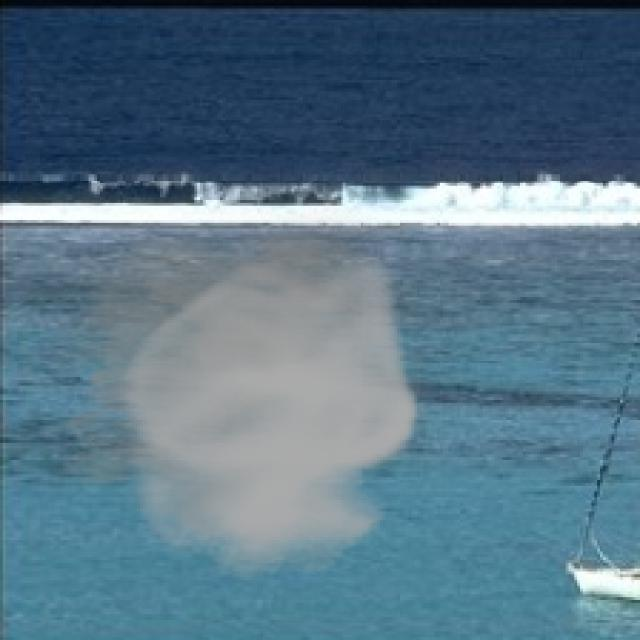Smoke: (14, 205, 426, 580)
